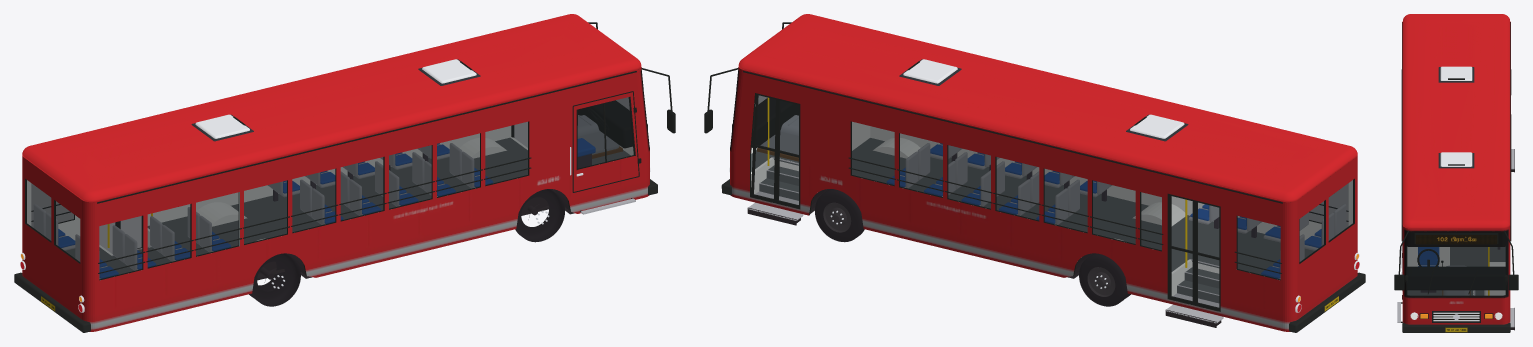
The model's file is red-bsiv-2018.glb.
3 renders of one model, left to right at view 1: azimuth 30°, elevation 25°; view 2: azimuth 150°, elevation 25°; view 3: azimuth 270°, elevation 25°, orthographic. The views are drawn at different scales.
Visible parts, largest first — view 1: red-bsiv-2018_Body, red-bsiv-2018_Glass, red-bsiv-2018_Wheel_Front_L; view 2: red-bsiv-2018_Body, red-bsiv-2018_Glass, red-bsiv-2018_Wheel_Front_L; view 3: red-bsiv-2018_Body, red-bsiv-2018_Glass.
Boxes of the visible parts, left/top/right/bottom form: red-bsiv-2018_Body: left=14, top=14, right=675, bottom=332; red-bsiv-2018_Glass: left=25, top=97, right=634, bottom=279; red-bsiv-2018_Wheel_Front_L: left=249, top=189, right=564, bottom=306; red-bsiv-2018_Body: left=704, top=14, right=1365, bottom=332; red-bsiv-2018_Glass: left=754, top=95, right=1354, bottom=307; red-bsiv-2018_Wheel_Front_L: left=815, top=189, right=1130, bottom=306; red-bsiv-2018_Body: left=1394, top=14, right=1518, bottom=332; red-bsiv-2018_Glass: left=1406, top=246, right=1506, bottom=295.
Size of the model in its own units: 12.25 by 3.25 by 2.9.
Materials: 10 (10 with a texture image).
